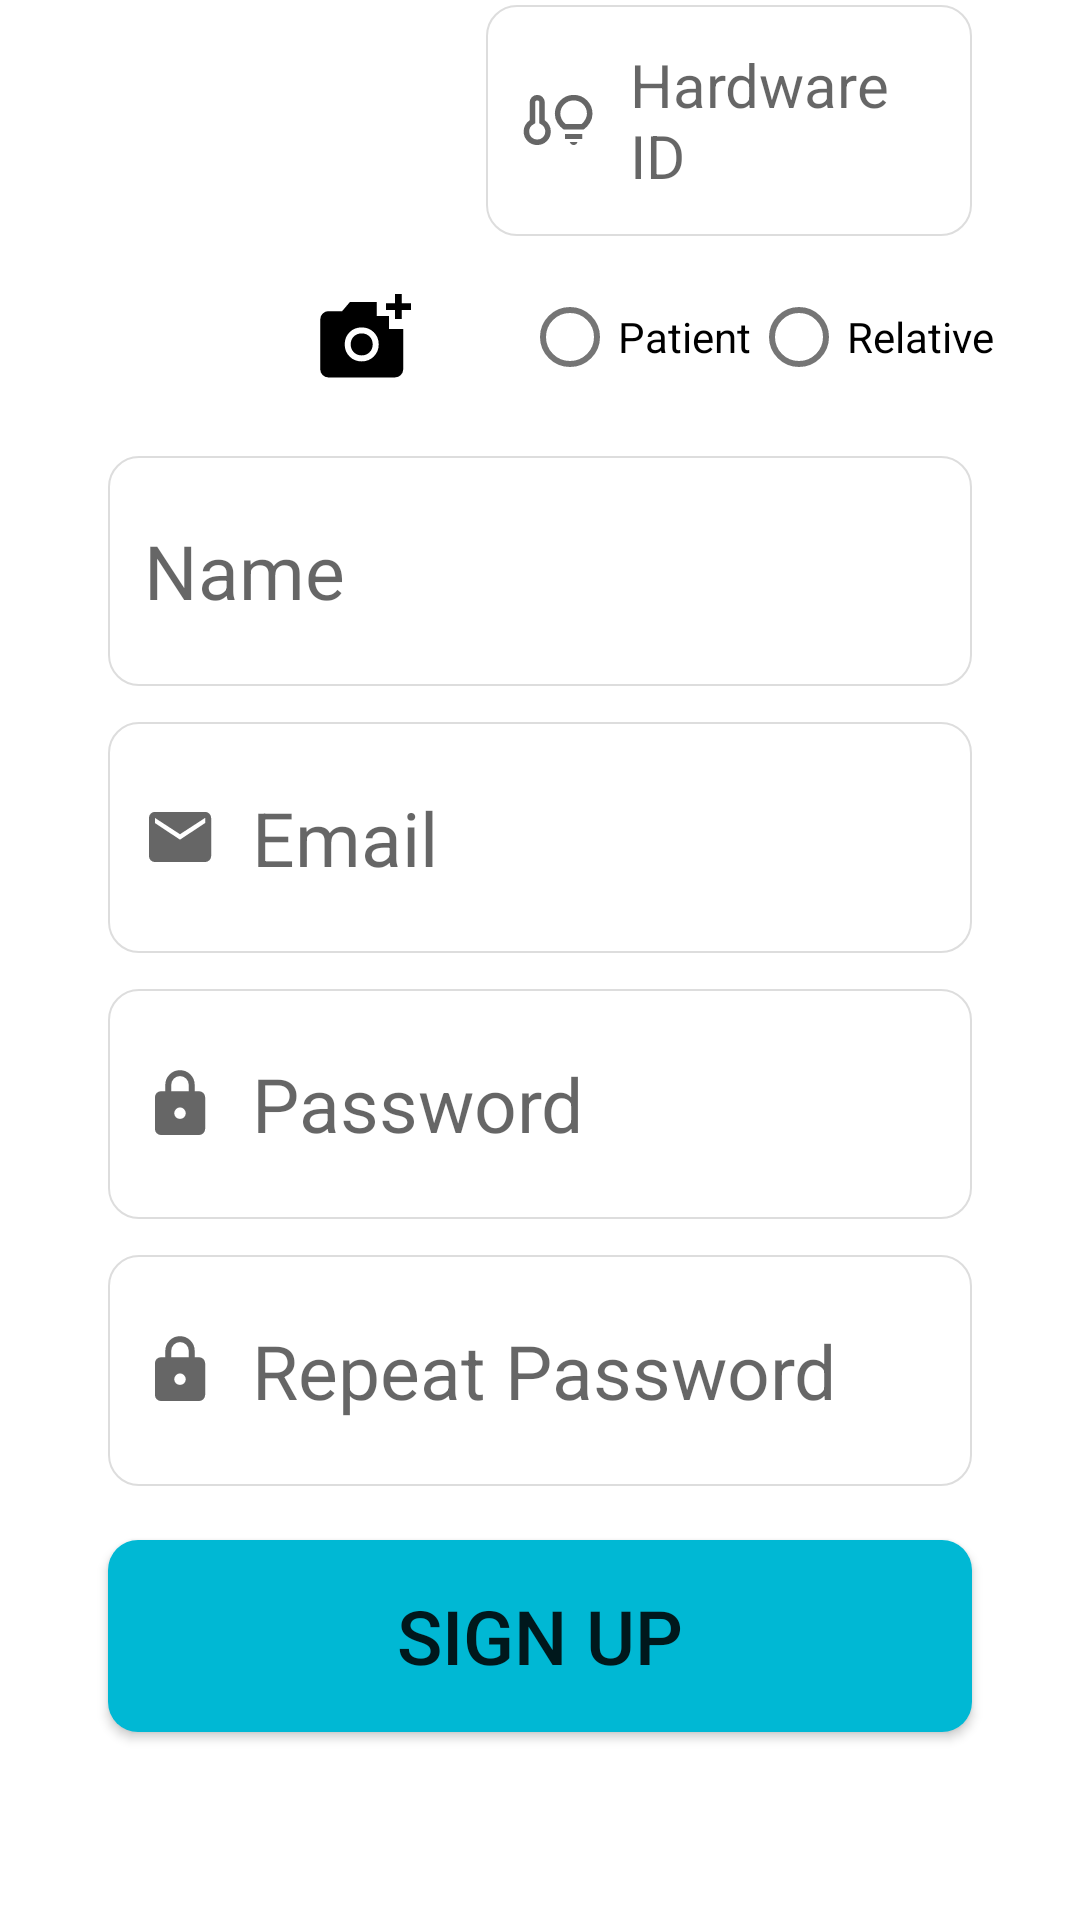

Named icons in this screenshot (1080 × 1920) and their bounding boxes, (x1, y1, x2, y2):
addphoto: (320, 294, 411, 378)
